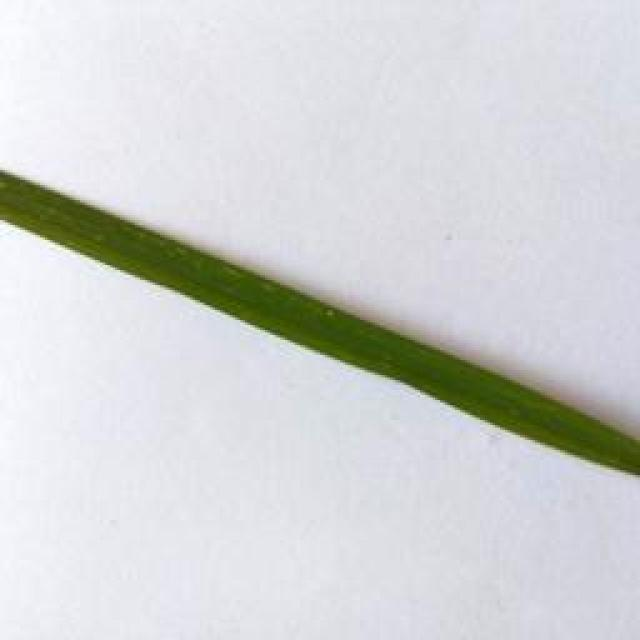Healthy-Plant: (3, 157, 640, 470)
